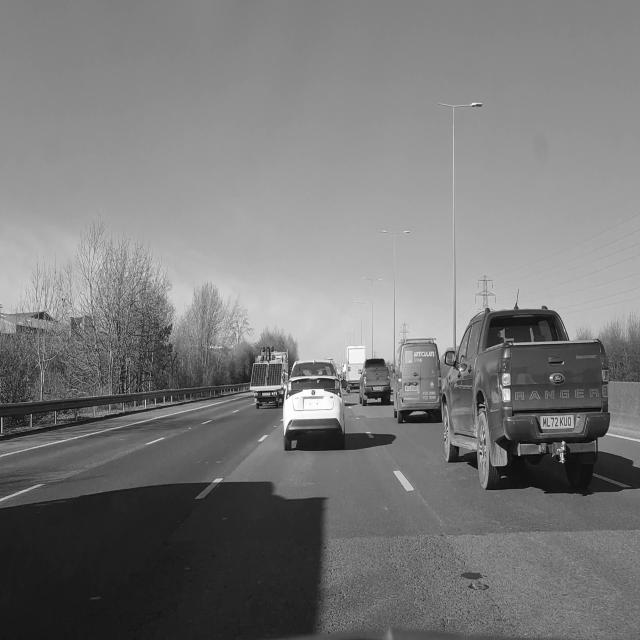car: (439, 302, 613, 504), (283, 361, 346, 450), (392, 338, 441, 423), (359, 358, 391, 406)
